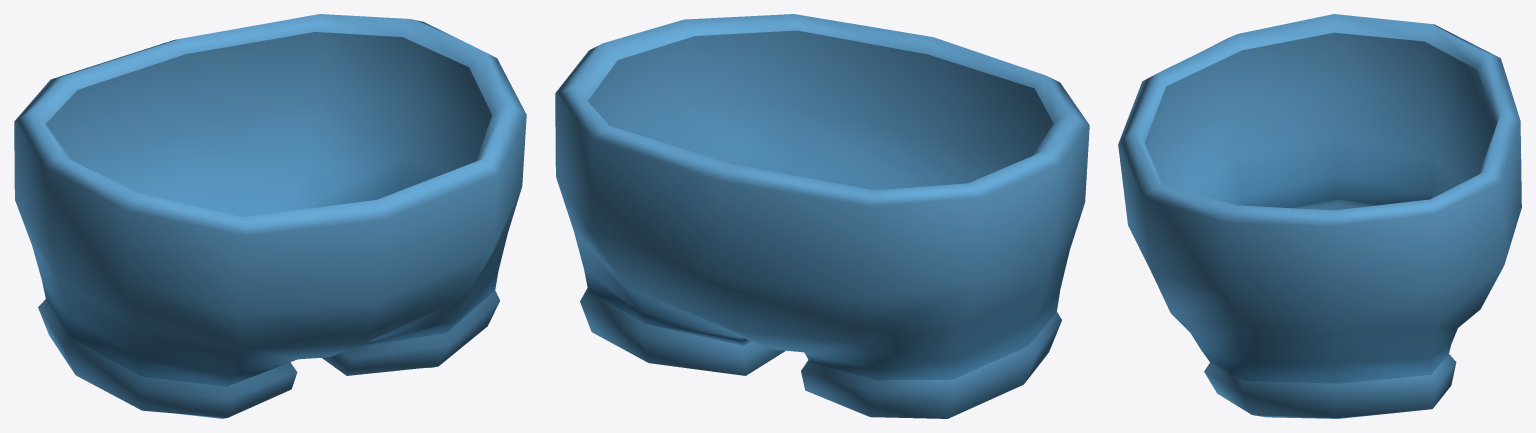
File: Bottom_01_Fat.fbx
The picture shows the model from 3 angles, left to right: view 1: azimuth 30°, elevation 25°; view 2: azimuth 150°, elevation 25°; view 3: azimuth 270°, elevation 25°; orthographic projection. The views are drawn at different scales.
Visible parts, largest first — view 1: Bottom_01_Fat; view 2: Bottom_01_Fat; view 3: Bottom_01_Fat.
Boxes of the visible parts, x1,y1,x2,y2 form: Bottom_01_Fat: (14, 14, 526, 418); Bottom_01_Fat: (555, 14, 1089, 418); Bottom_01_Fat: (1118, 14, 1521, 418).
Bounding box in the file's own units: 52.46 × 27.86 × 42.8.
